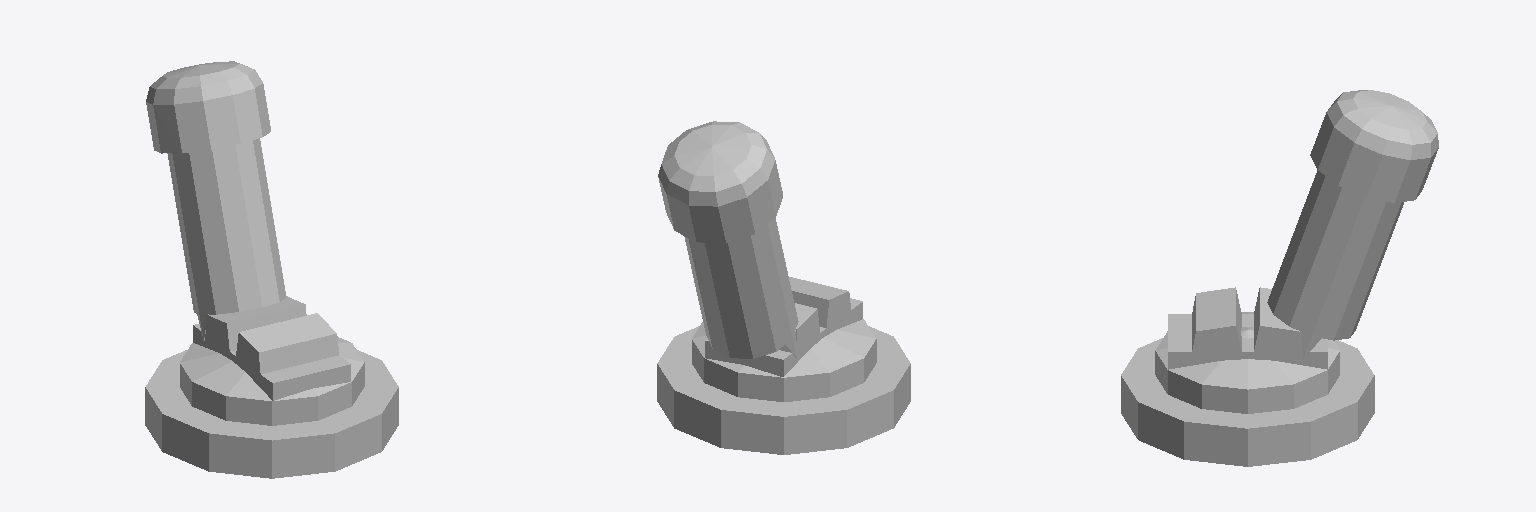
File: Sw_Avionics - Off.obj
The picture shows the model from 3 angles: view 1: azimuth 30°, elevation 25°; view 2: azimuth 150°, elevation 25°; view 3: azimuth 270°, elevation 25°; orthographic projection.
Visible parts, largest first — view 1: Switch, LockNut, SwitchBase, LockTine, Slider; view 2: Switch, LockNut, SwitchBase, LockTine, Slider; view 3: Switch, LockNut, SwitchBase, LockTine, Slider.
Part boxes in pixels (x1,y1,x2,y2): Switch: (146,61,286,340); LockNut: (145,349,398,478); SwitchBase: (180,337,364,425); LockTine: (205,296,338,375); Slider: (193,324,350,400); Switch: (658,121,798,358); LockNut: (657,326,910,454); SwitchBase: (692,319,876,401); LockTine: (789,277,850,350); Slider: (705,298,862,376); Switch: (1267,90,1438,358); LockNut: (1121,338,1374,466); SwitchBase: (1155,312,1339,413); LockTine: (1192,287,1302,353); Slider: (1168,314,1327,369).
Bounding box in the file's own units: 6 × 8.23 × 7.53.